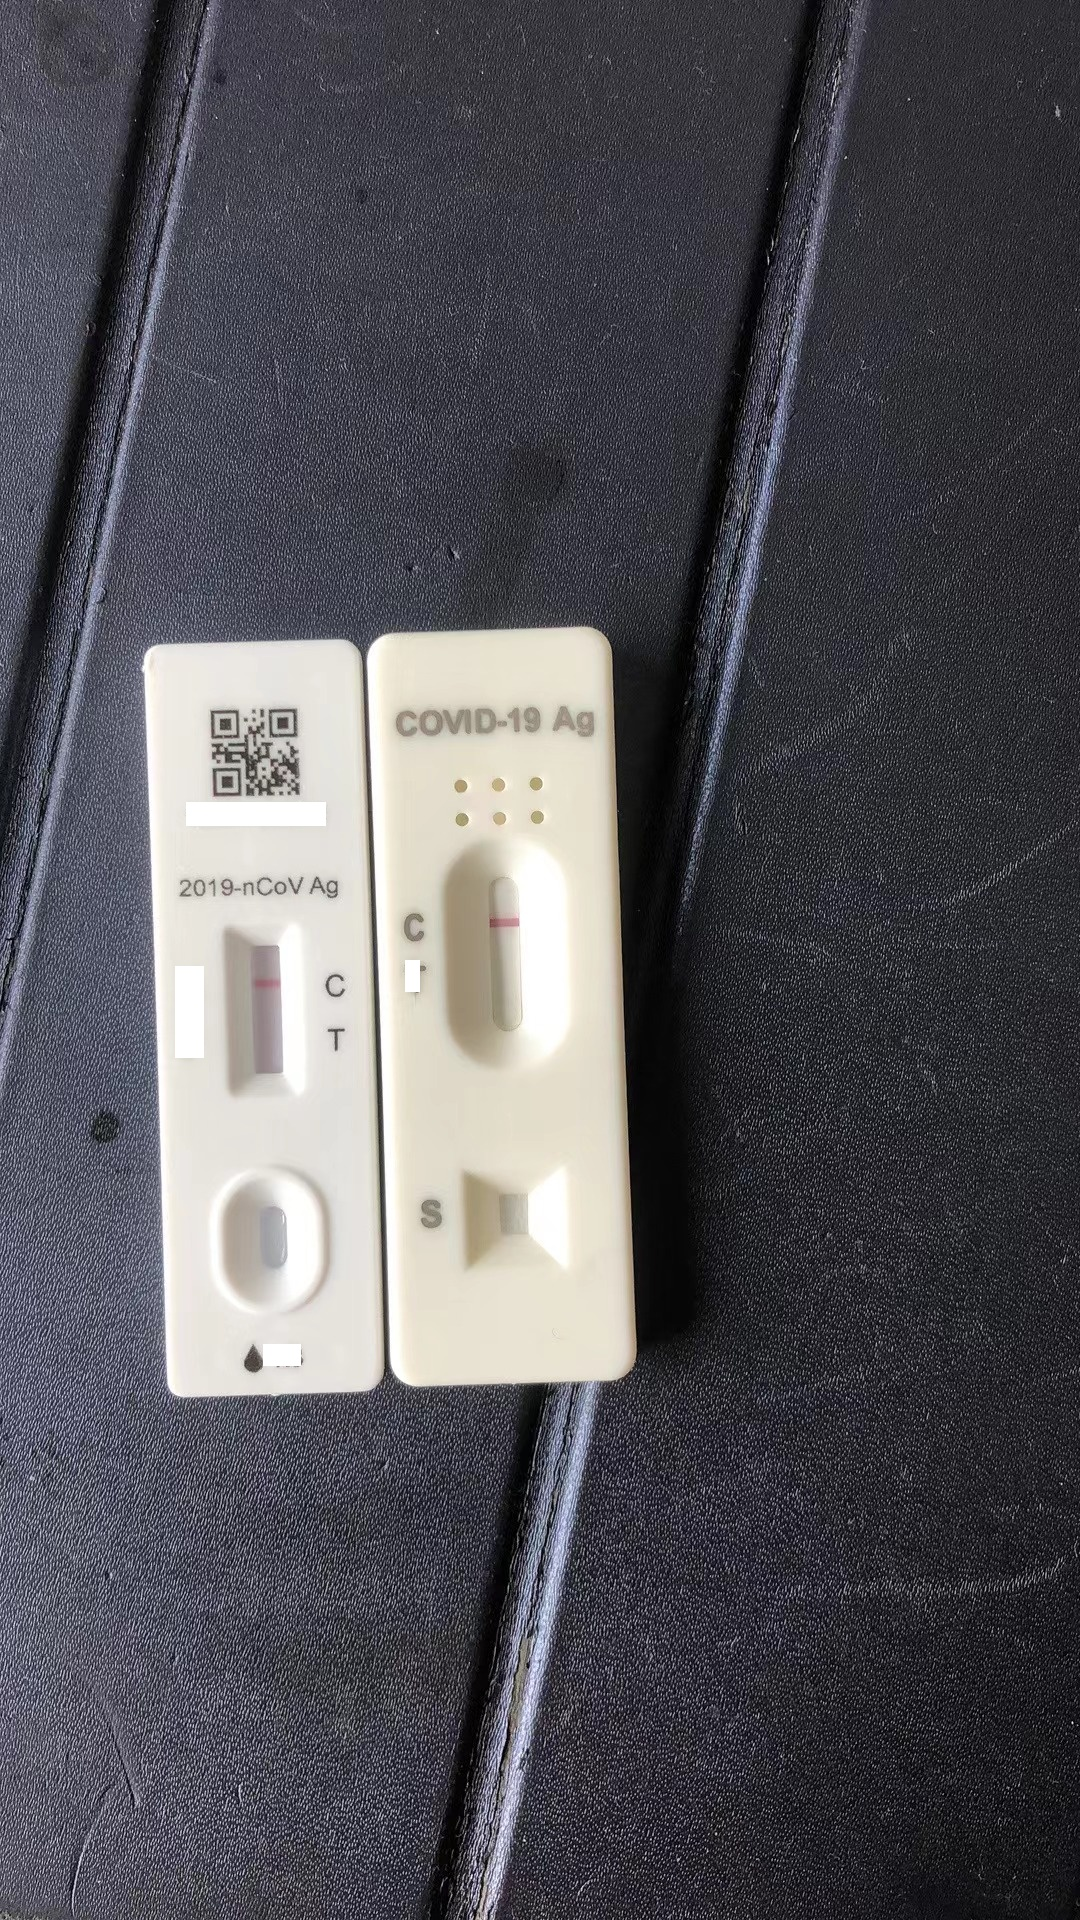negative: (448, 851, 553, 1056), (222, 918, 299, 1101)
